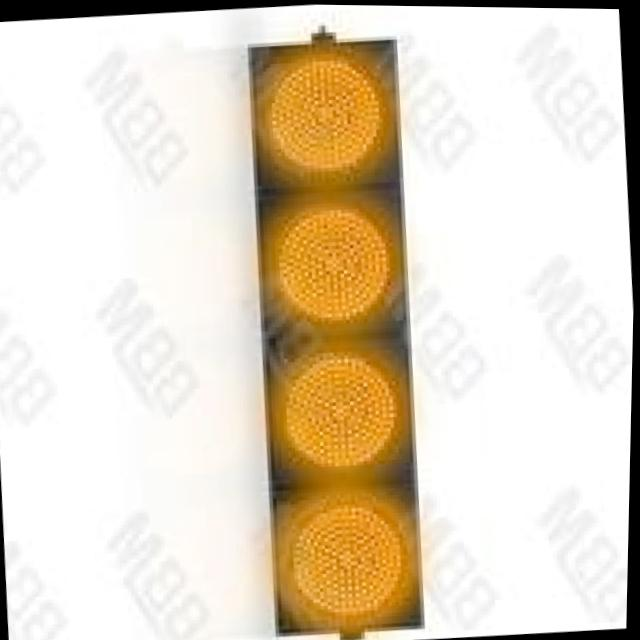yellow_light: (193, 2, 425, 214)
